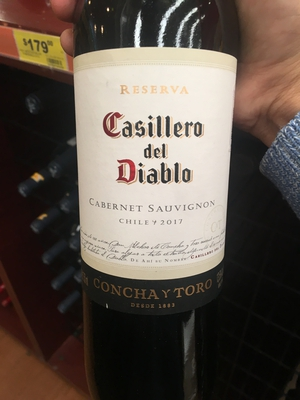casillero del diablo cabernet sauvignon: (63, 1, 250, 395)
